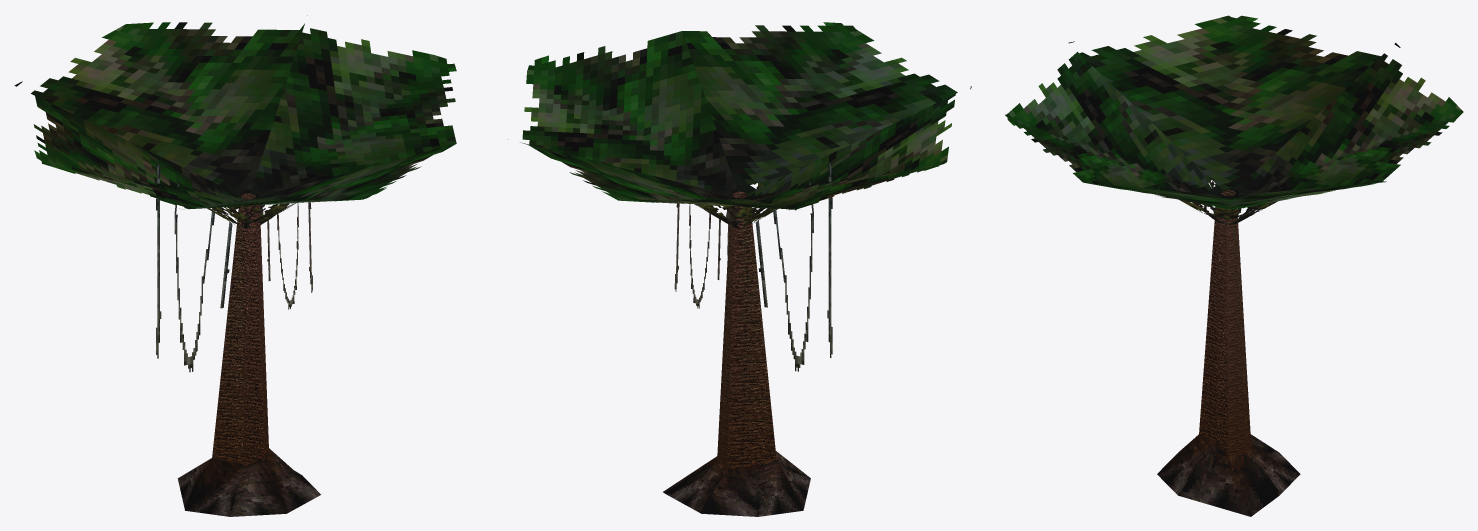
The model's file is Pjungle3_treeZ-shared-attributes-fixed.glb.
The picture shows the model from 3 angles, left to right: view 1: azimuth 30°, elevation 25°; view 2: azimuth 150°, elevation 25°; view 3: azimuth 270°, elevation 25°; orthographic projection. The views are drawn at different scales.
Visible parts, largest first — view 1: Part 2, Part 0, Part 1, Part 2.002, Part 2.001; view 2: Part 2, Part 0, Part 1, Part 2.002, Part 2.001; view 3: Part 2, Part 0, Part 1, Part 2.001.
Part boxes in pixels (left/top/right/bottom): Part 2: left=14, top=15, right=456, bottom=209; Part 0: left=212, top=193, right=268, bottom=464; Part 1: left=177, top=448, right=320, bottom=516; Part 2.002: left=156, top=163, right=312, bottom=372; Part 2.001: left=207, top=156, right=295, bottom=228; Part 2: left=520, top=22, right=971, bottom=210; Part 0: left=717, top=191, right=776, bottom=468; Part 1: left=663, top=451, right=810, bottom=516; Part 2.002: left=674, top=162, right=832, bottom=371; Part 2.001: left=694, top=183, right=778, bottom=227; Part 2: left=1005, top=15, right=1463, bottom=209; Part 0: left=1199, top=190, right=1251, bottom=456; Part 1: left=1157, top=434, right=1300, bottom=516; Part 2.001: left=1179, top=181, right=1277, bottom=224.
Size of the model in its own units: 30421 by 27056 by 30421.
Materials: 5 (5 with a texture image).
